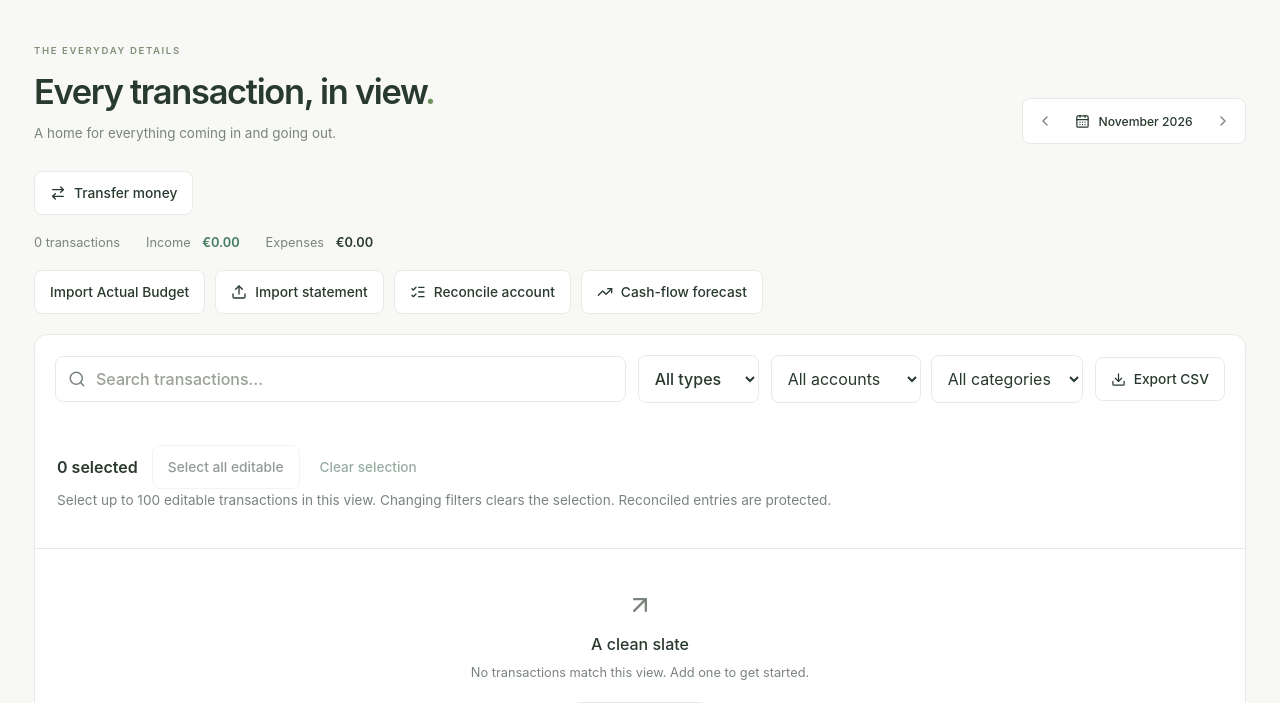
Test case: account transfer workflows › supports reverse transfers with only two accounts and previews a negative paying balance
Click the button "Transfer money" at (114, 194), box [34,172,193,216]
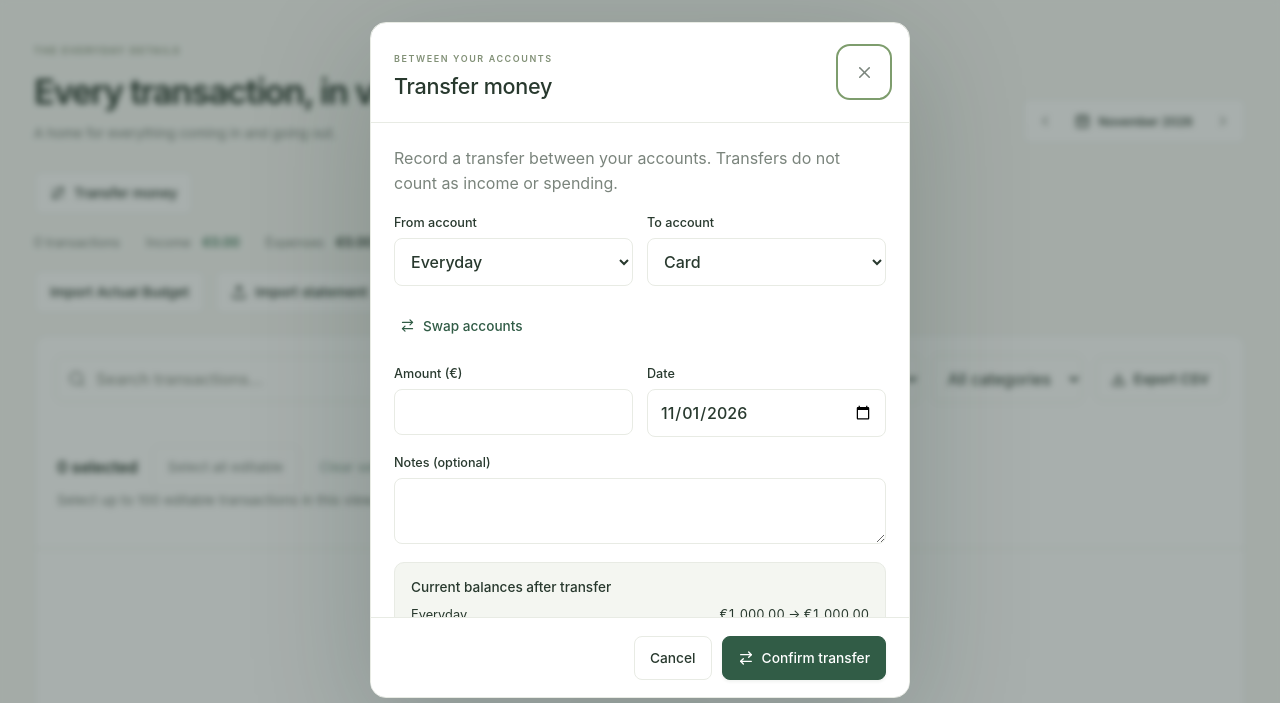
Click the button "Swap accounts" at (461, 326), box [394,304,529,348]
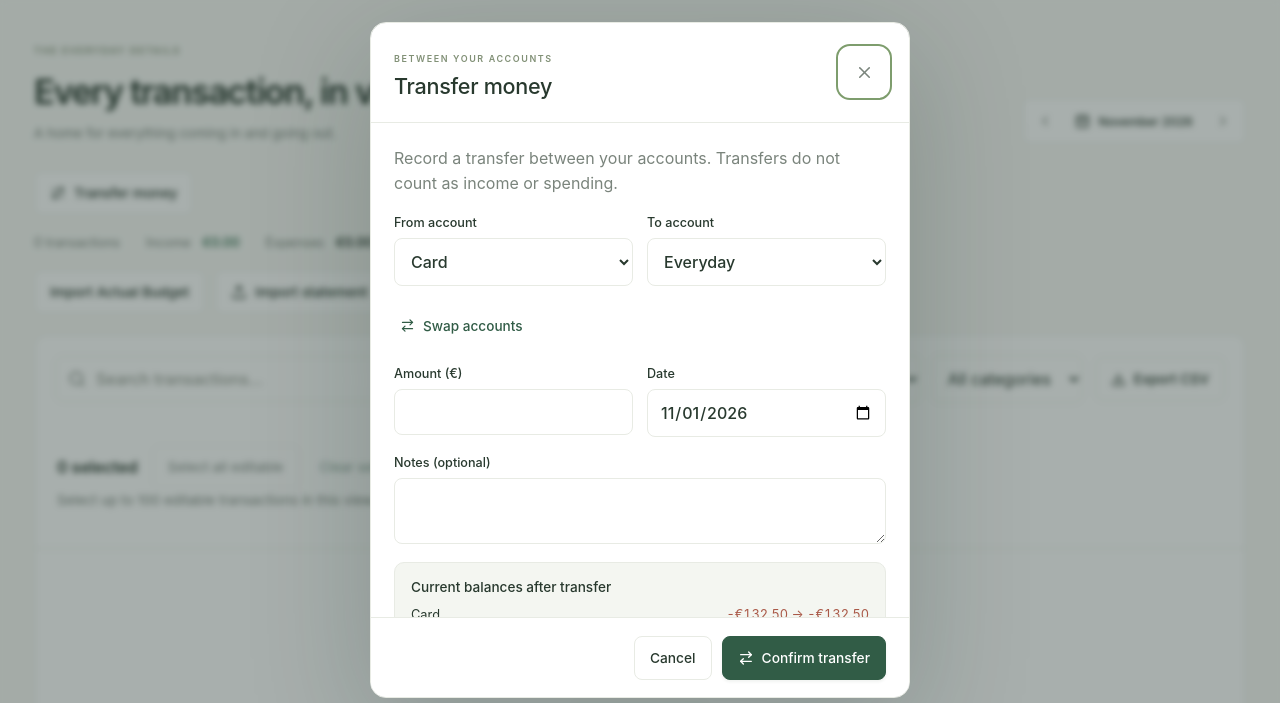
Now the dropdown labelled "From account" shows "Card", box [394,238,633,286]
Now the dropdown labelled "To account" shows "Everyday", box [647,238,886,286]
Type "5" into the number field labelled "Amount (€)" at (514, 412), box [394,389,633,435]
(page scrolled)
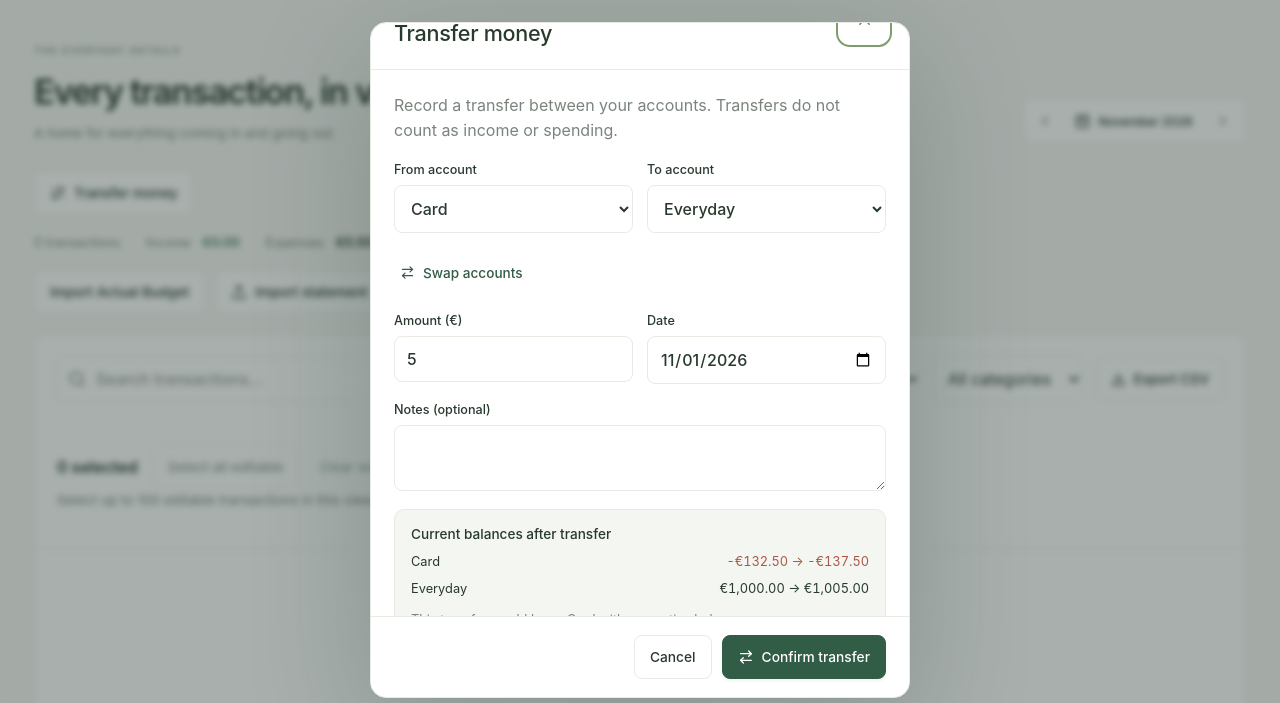
Now the element named "Balance preview" shows "leave Card with a negative balance", box [394,509,886,647]
Submit the form
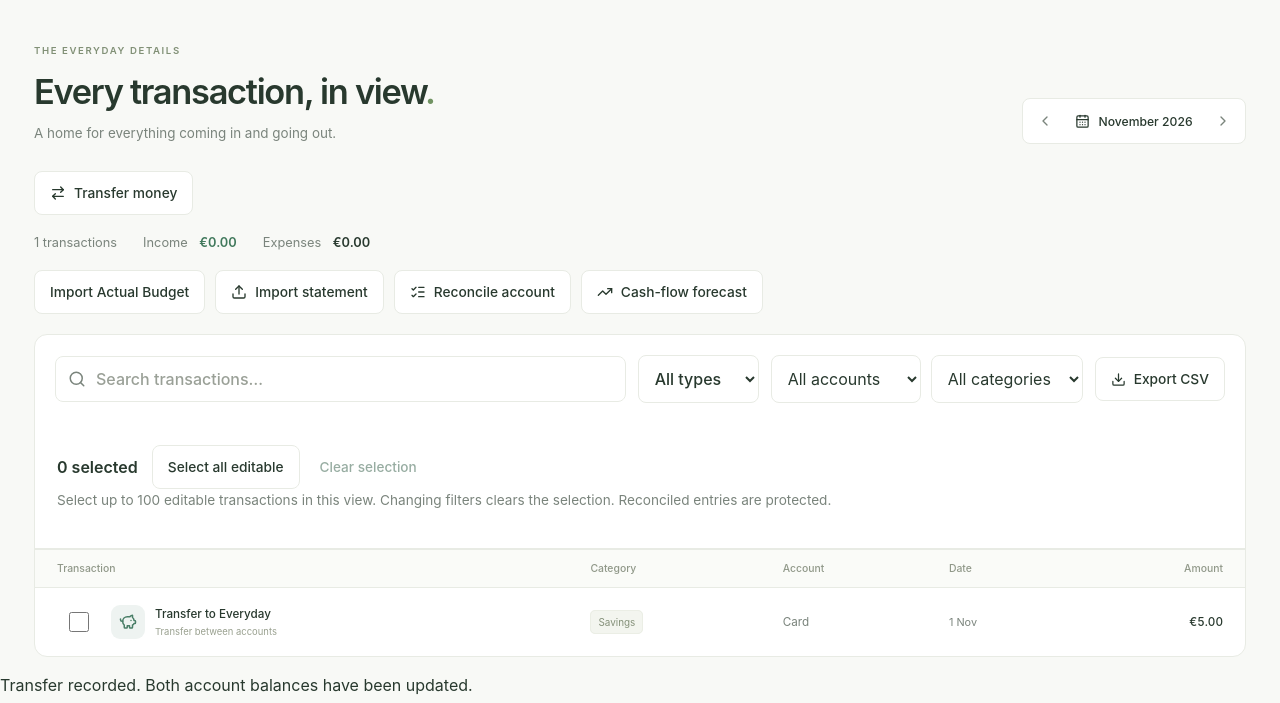
Now the dialog is gone
